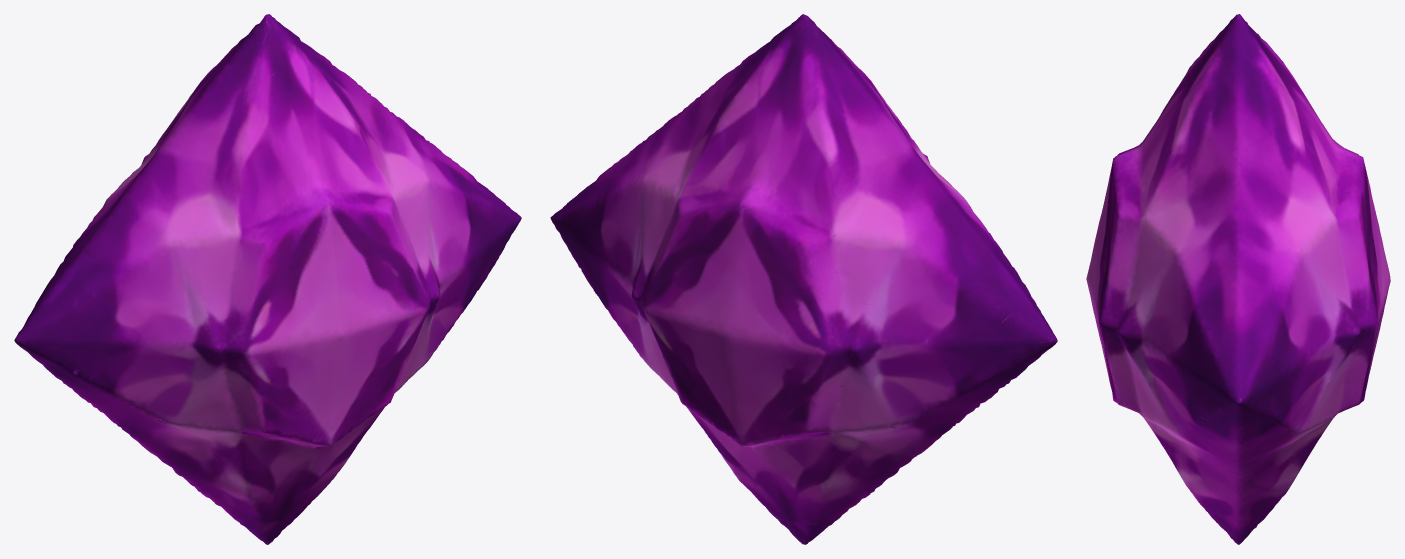
The model's file is crystal.glb.
The picture shows the model from 3 angles, left to right: view 1: azimuth 30°, elevation 25°; view 2: azimuth 150°, elevation 25°; view 3: azimuth 270°, elevation 25°; orthographic projection.
Parts seen in each view (by area): view 1: model; view 2: model; view 3: model.
Part boxes in pixels (<box>): model: <box>14,14,521,544</box>; model: <box>550,14,1057,544</box>; model: <box>1086,14,1390,544</box>.
Size of the model in its own units: 1.9 by 1.9 by 0.9896.
1 material, 1 textured.
